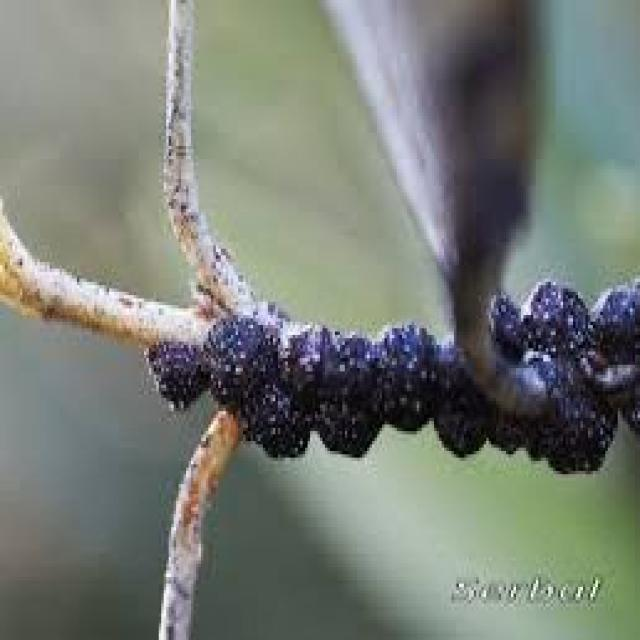Black Scale: (146, 305, 491, 462), (491, 278, 638, 478)
